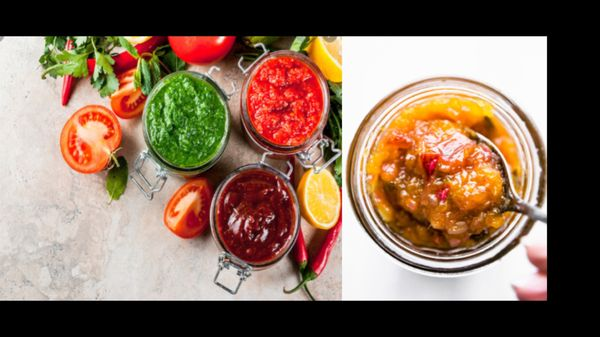sushi: (347, 76, 542, 272), (239, 50, 331, 156), (210, 163, 301, 268), (142, 70, 232, 174), (59, 104, 122, 174), (167, 37, 237, 67)
taco: (297, 166, 341, 230)
